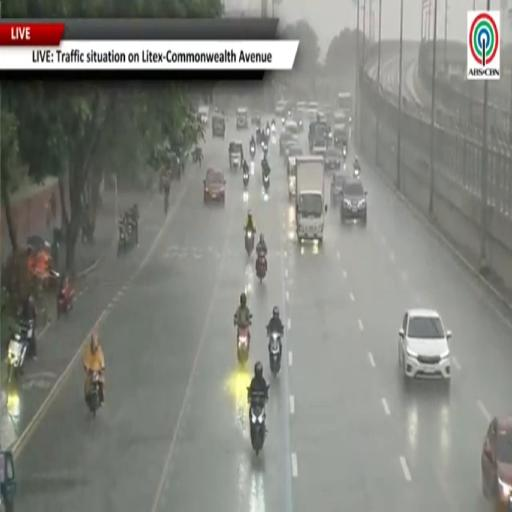bus: (337, 92, 353, 120)
car: (399, 309, 451, 383), (481, 416, 511, 509), (340, 179, 366, 225), (204, 168, 226, 204), (285, 141, 303, 168), (331, 172, 345, 205), (333, 124, 347, 156), (26, 235, 50, 253), (285, 141, 303, 165), (324, 147, 342, 170), (229, 141, 243, 170), (283, 136, 298, 161), (287, 157, 296, 198), (280, 131, 293, 155), (212, 115, 225, 138), (312, 137, 327, 155), (237, 108, 248, 129), (275, 100, 287, 117), (198, 106, 209, 124), (294, 112, 303, 133), (334, 111, 348, 124), (285, 120, 297, 134), (307, 108, 317, 121), (297, 101, 306, 114), (251, 115, 261, 126), (317, 111, 326, 122)
motorcycle: (7, 320, 34, 383), (248, 387, 269, 455), (57, 280, 74, 317), (87, 372, 100, 417), (269, 332, 281, 375), (237, 326, 250, 364), (256, 251, 267, 282), (118, 224, 127, 254), (245, 230, 254, 255), (243, 171, 249, 188), (164, 195, 169, 215), (264, 174, 269, 191), (249, 161, 255, 175), (262, 141, 267, 156), (250, 144, 255, 158), (354, 168, 360, 179), (298, 120, 303, 133), (265, 126, 270, 139), (342, 146, 347, 159), (271, 121, 275, 133), (282, 117, 285, 125)
truck: (295, 156, 327, 243)
